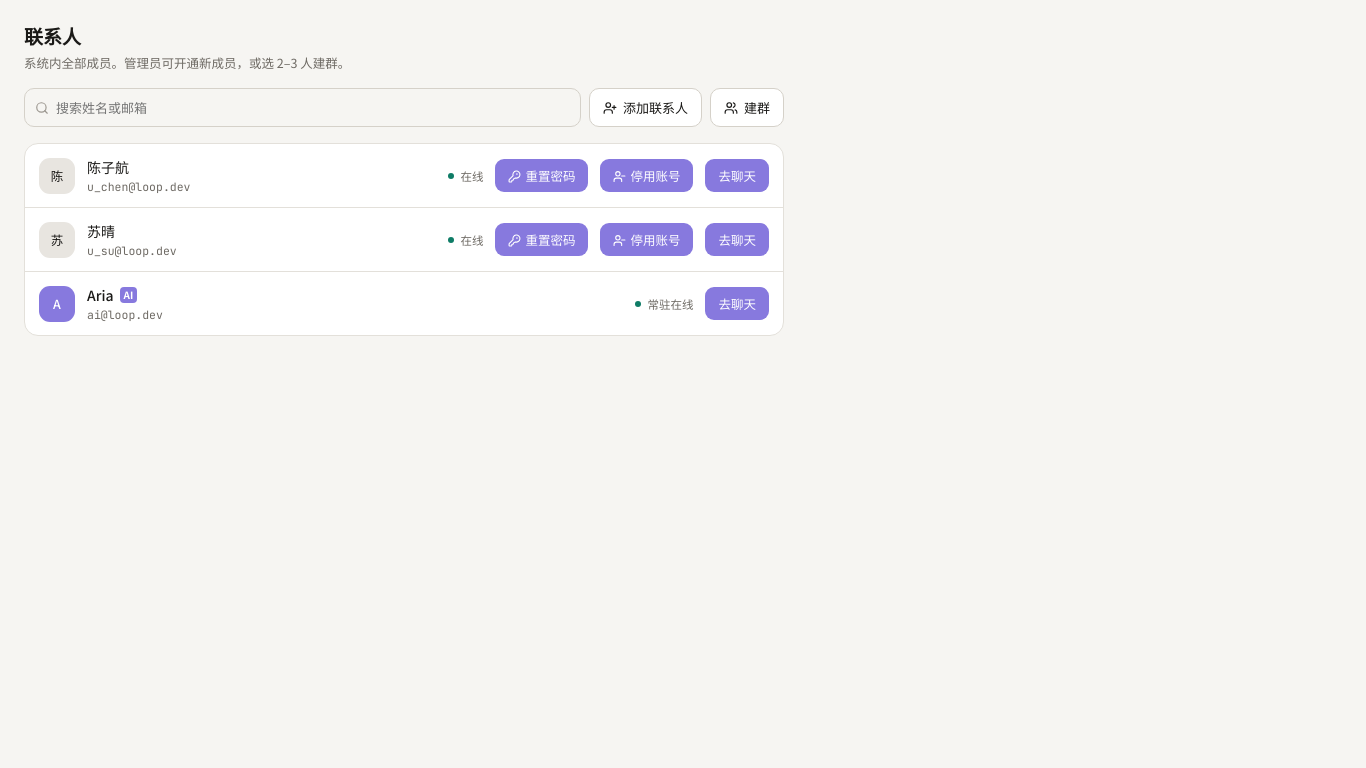
重置弹窗 › 重置成功后把新密码显示出来，并提示只显示这一次
This screenshot has width=1366, height=768.
Click the button "重置密码" in the row of "u_chen@loop.dev".
click(542, 176)  # box x1=496 y1=159 x2=588 y2=192
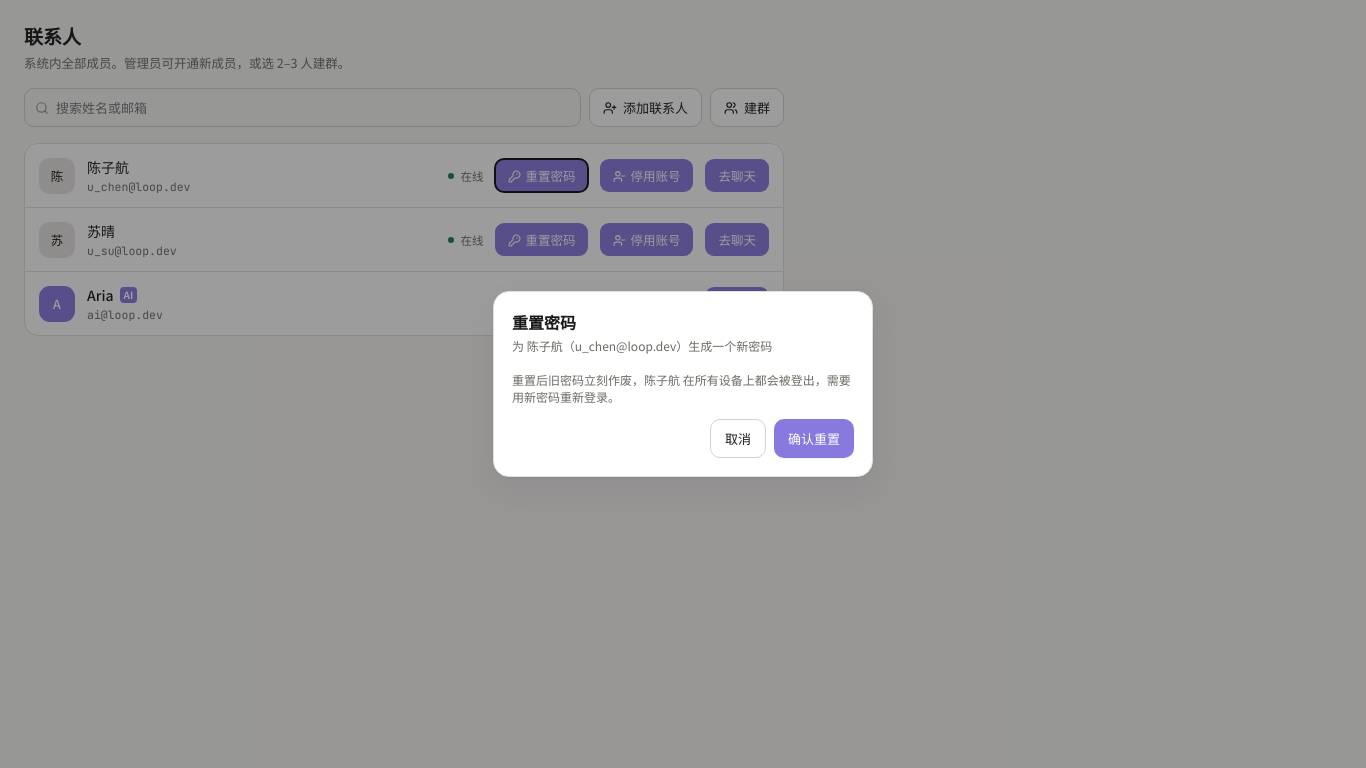
Click the button "确认重置".
click(814, 438)  # box x1=774 y1=419 x2=854 y2=458
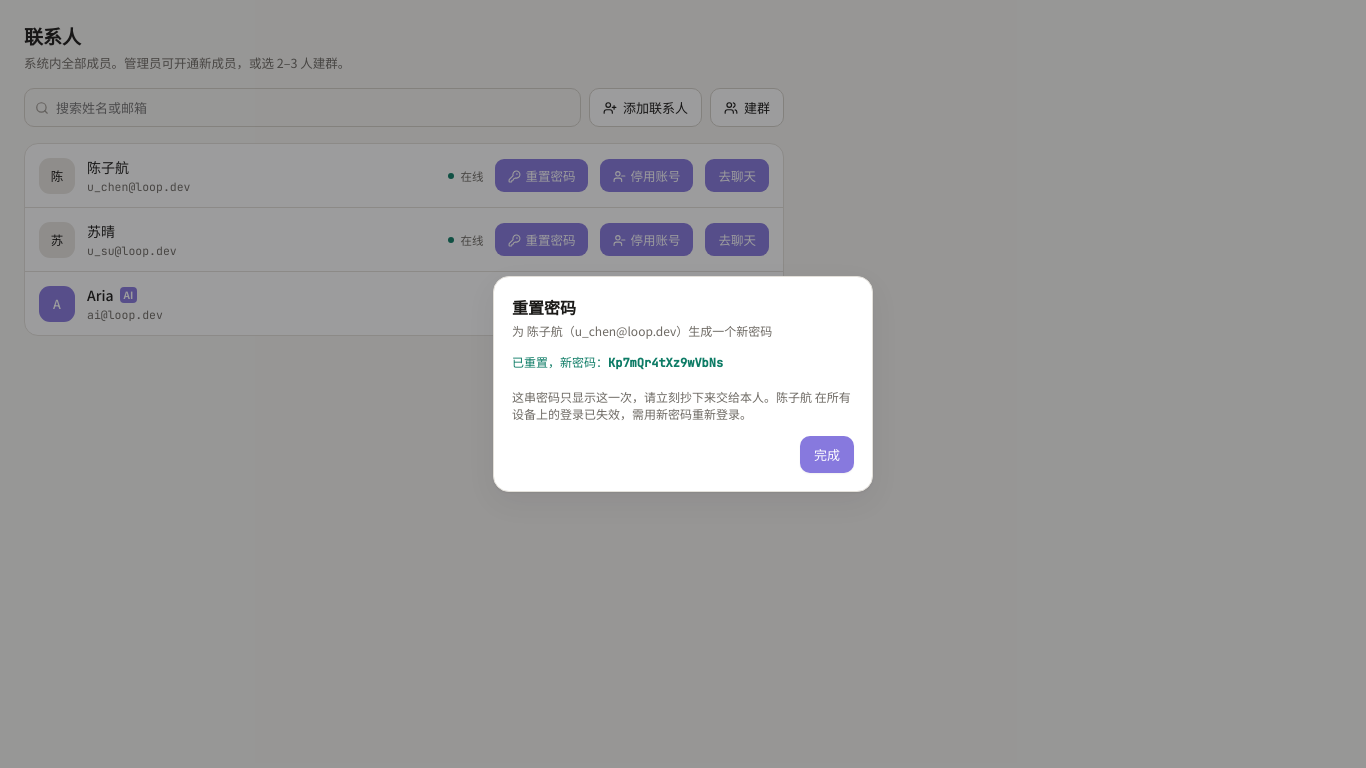
Now the text "Kp7mQr4tXz9wVbNs" is shown, box x1=608 y1=355 x2=723 y2=371
Now the text "这串密码只显示这一次，请立刻抄下来交给本人。陈子航 在所有设备上的登录已失效，需用新密码重新登录。" is shown, box x1=512 y1=388 x2=854 y2=422
Now the button "确认重置" is gone
